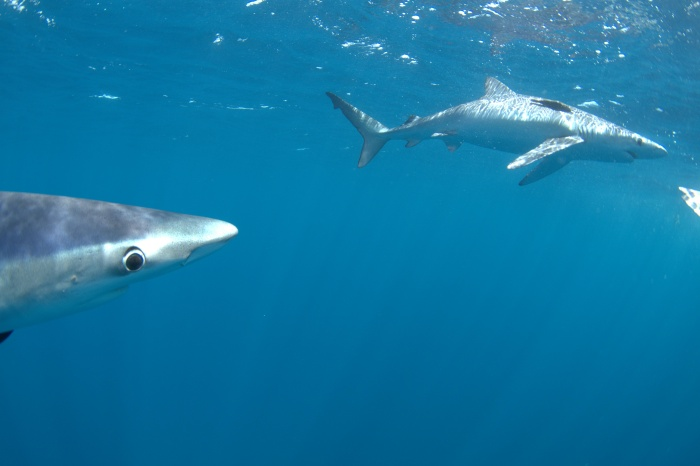Azul: (317, 66, 683, 191)
